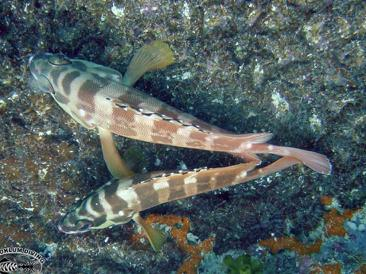Serranidae -Groupers-: (23, 39, 332, 176), (52, 154, 301, 250)
